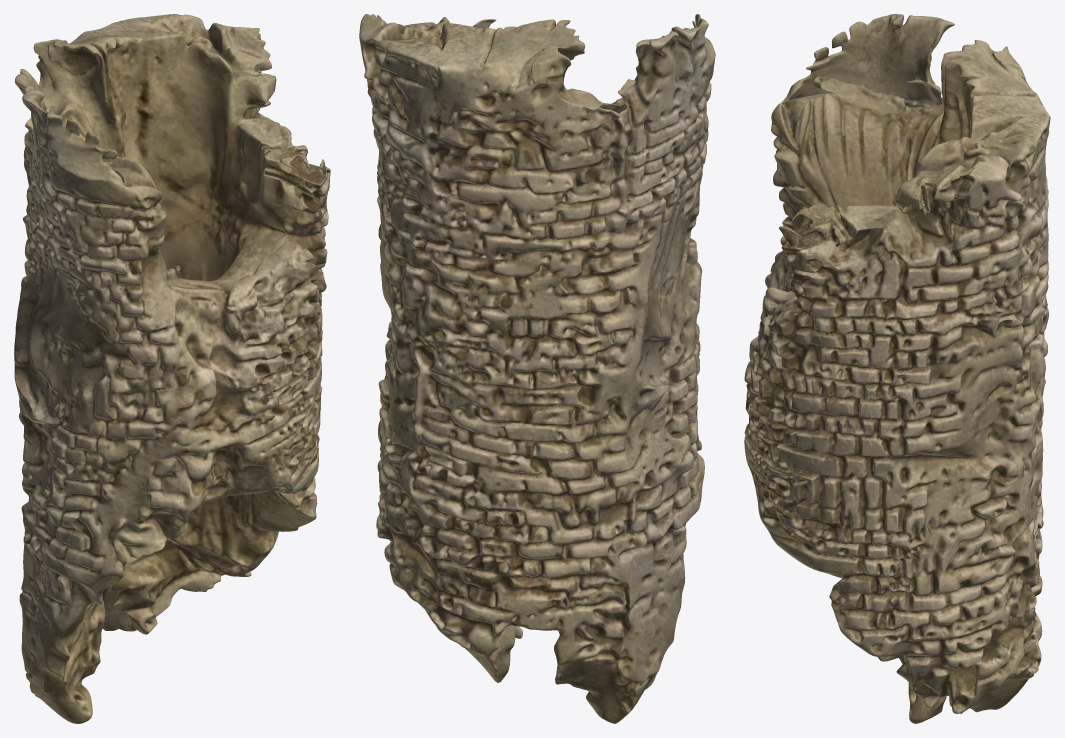
The model's file is coral.glb.
3 views of the same model, side by side, from view 1: azimuth 30°, elevation 25°; view 2: azimuth 150°, elevation 25°; view 3: azimuth 270°, elevation 25° (orthographic). The views are drawn at different scales.
Size of the model in its own units: 0.8443 by 1.9 by 0.7695.
1 material, 1 textured.
